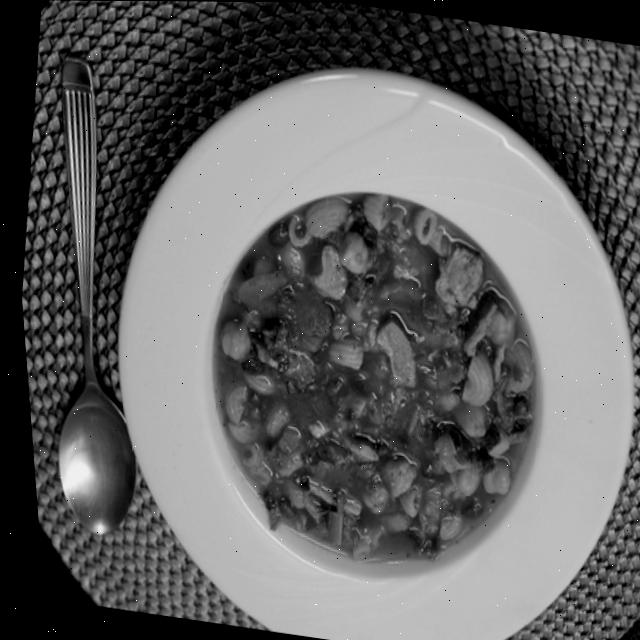汤锅炖物: (29, 0, 640, 640)
